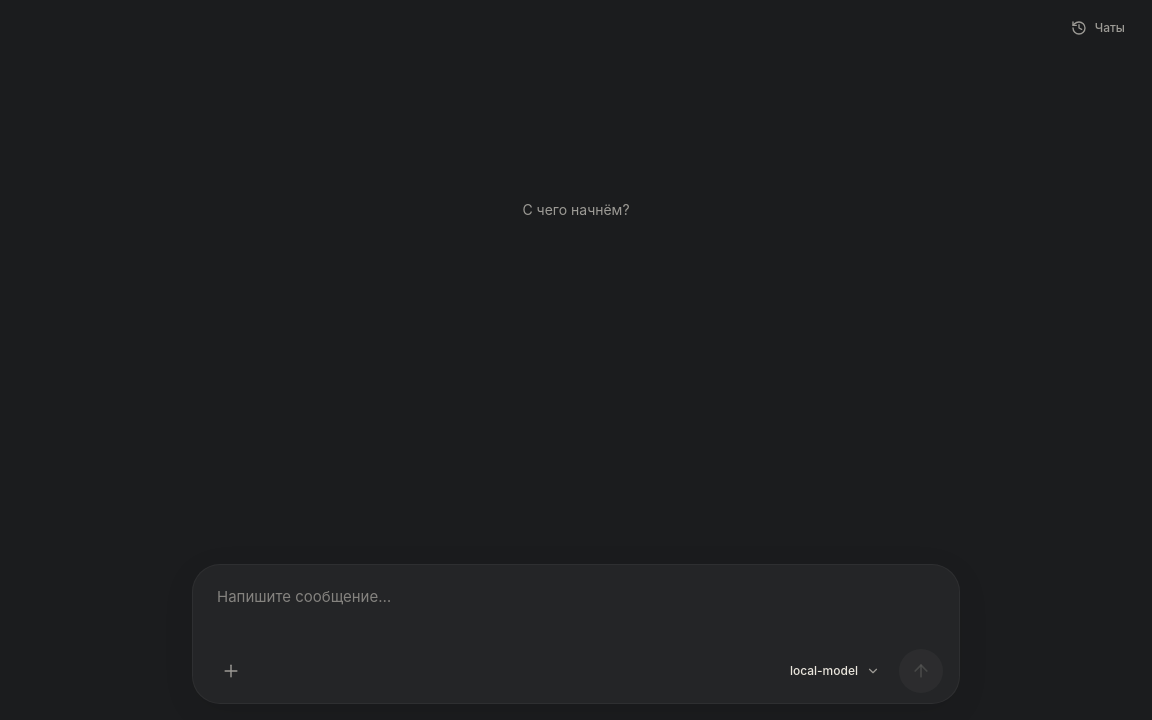
Test: ChatPage › uses the same-origin persistent chat endpoint with the registered model
The image size is (1152, 720).
Expected: the text "local-model" is shown, x1=790 y1=663 x2=858 y2=679
Type "Привет" into the text box labelled "сообщение" at (576, 609), box x1=209 y1=577 x2=943 y2=641
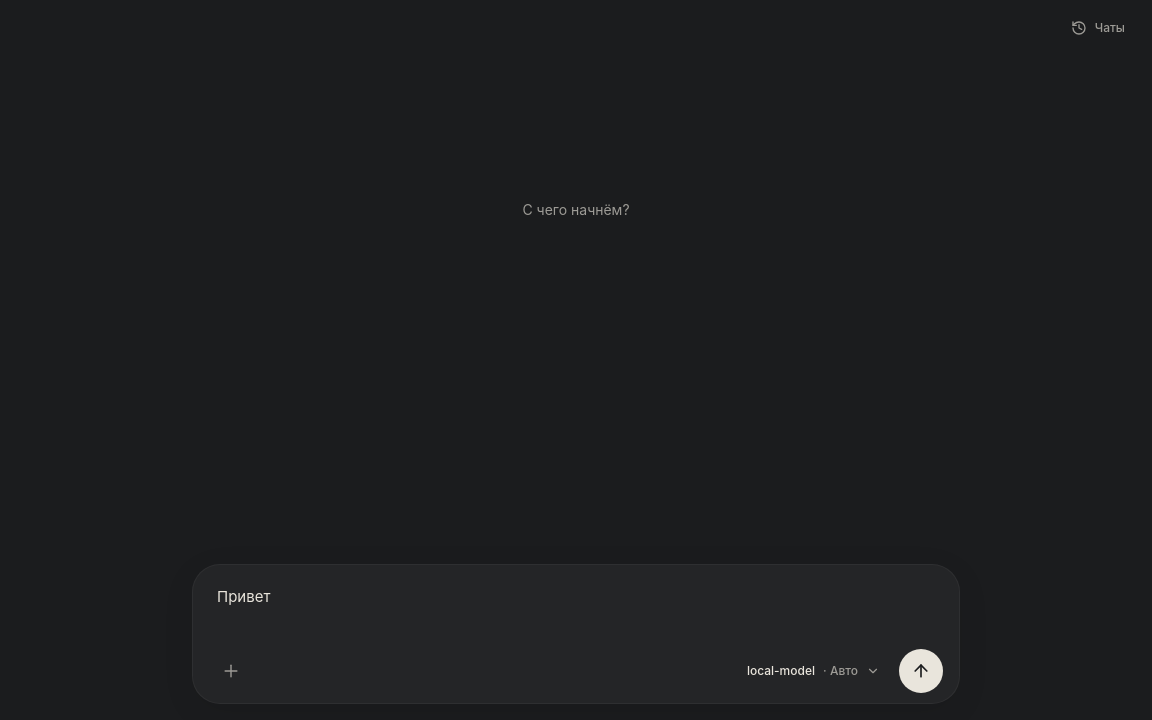
Click the button named "Отправить" at (921, 671), box x1=899 y1=649 x2=943 y2=693
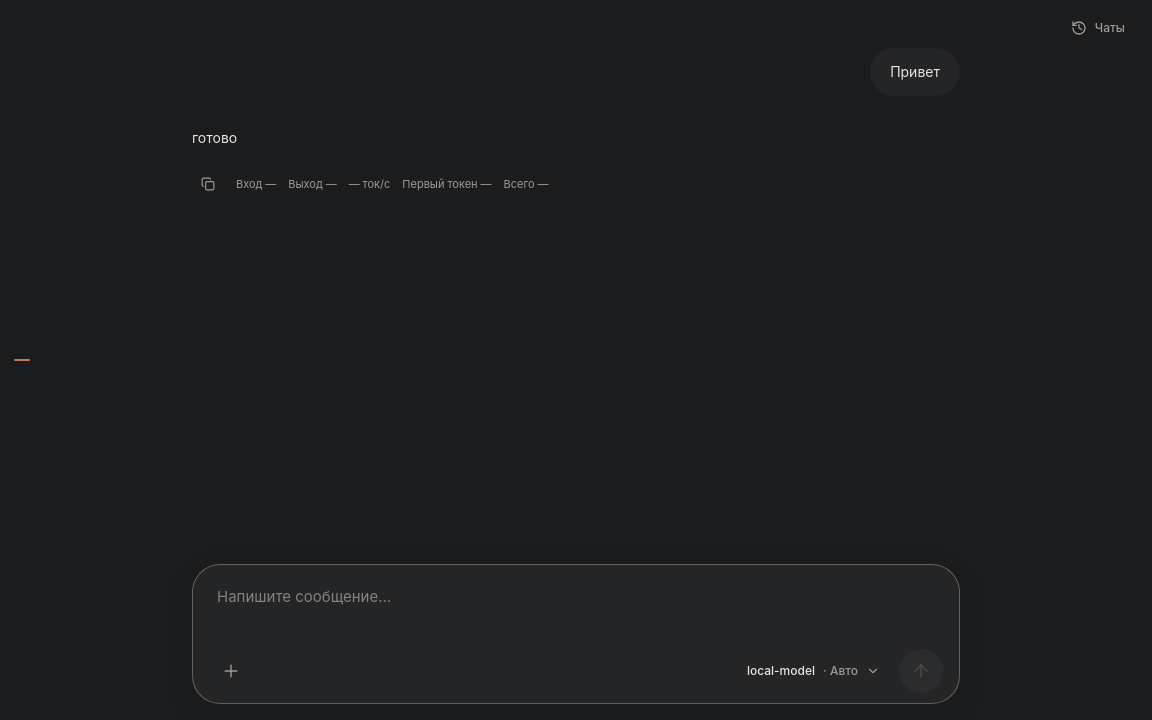
Now the text "готово" is shown, box x1=192 y1=129 x2=237 y2=146
